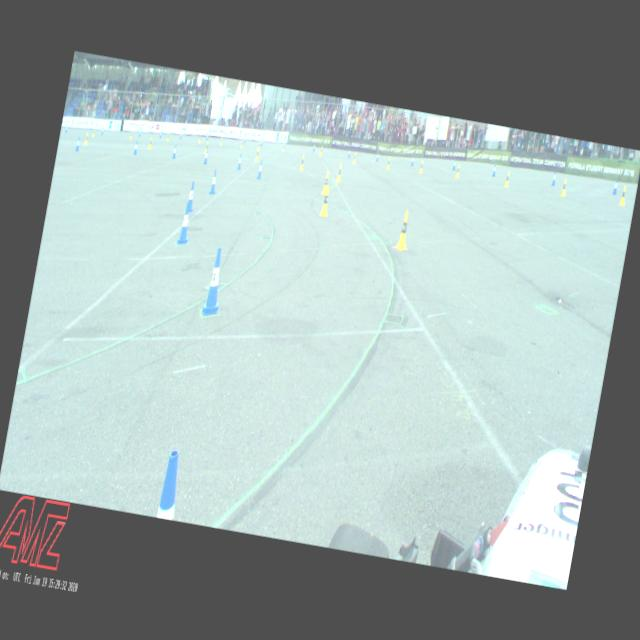blue_cone: (156, 448, 184, 520), (202, 247, 230, 316), (176, 202, 193, 245), (186, 180, 197, 211), (208, 170, 218, 194), (256, 160, 264, 178), (612, 178, 618, 194), (237, 153, 243, 169), (550, 172, 556, 186), (75, 136, 80, 150), (203, 150, 208, 164), (133, 140, 138, 154), (172, 144, 176, 158), (492, 164, 496, 177), (410, 154, 414, 166), (452, 159, 456, 170), (347, 148, 351, 158), (312, 142, 316, 152), (100, 127, 104, 134), (260, 138, 263, 146), (205, 132, 208, 140), (376, 152, 379, 160), (138, 130, 142, 136), (65, 125, 68, 132), (243, 136, 246, 142), (160, 130, 162, 138), (180, 132, 182, 139)
yellow_cone: (394, 208, 412, 250), (320, 186, 331, 216), (322, 171, 329, 194), (619, 185, 627, 205), (560, 178, 568, 196), (504, 171, 511, 187), (336, 164, 342, 182), (454, 164, 460, 178), (254, 148, 260, 160), (418, 160, 424, 172), (204, 140, 209, 154), (300, 154, 304, 170), (84, 132, 89, 144), (386, 157, 391, 169), (319, 144, 323, 156), (352, 152, 356, 163), (148, 138, 152, 148), (282, 142, 285, 152), (240, 139, 243, 148), (92, 128, 95, 136), (257, 141, 260, 149), (167, 133, 170, 141), (198, 135, 201, 143), (129, 132, 132, 139), (220, 136, 222, 145)
